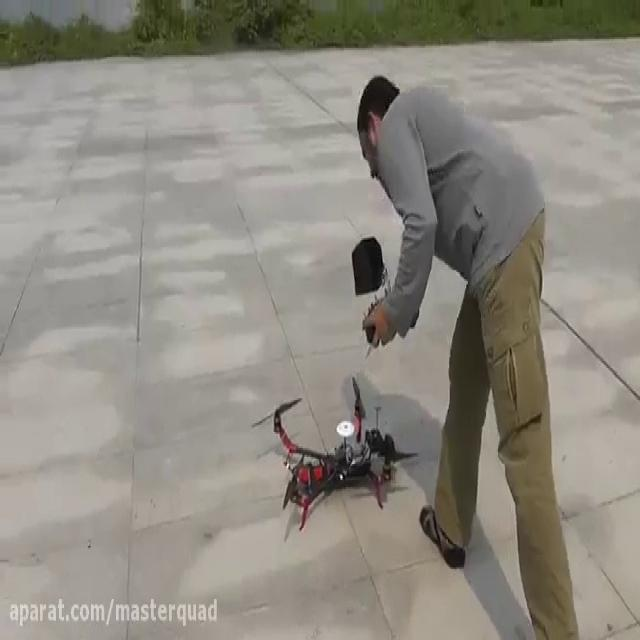drone: (246, 372, 418, 530)
